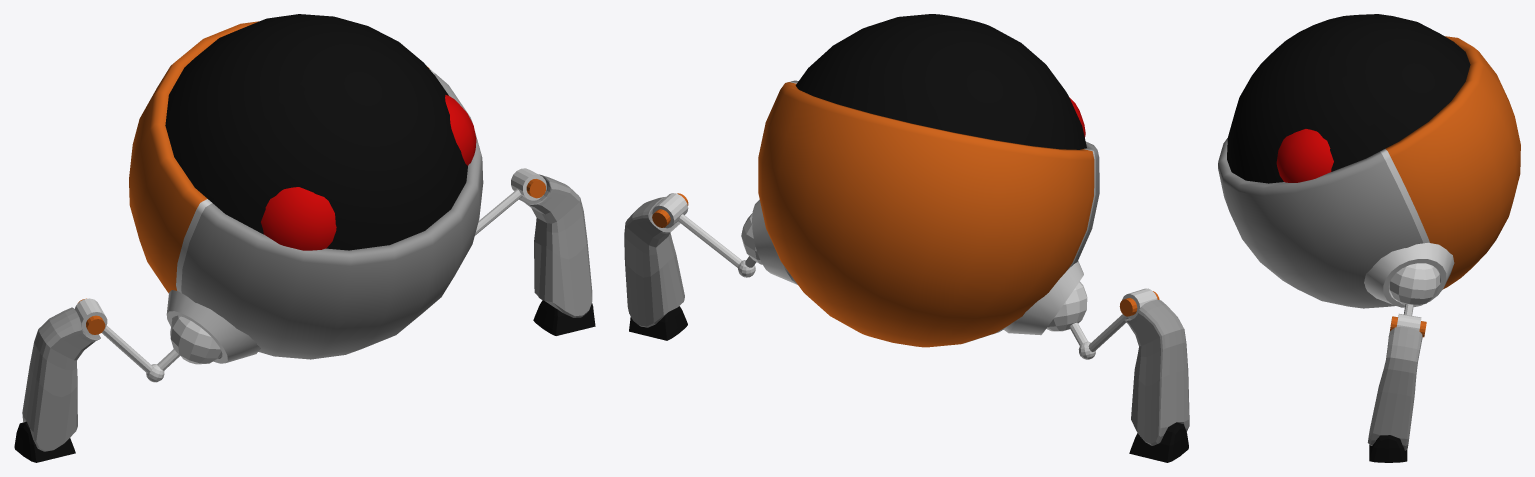
File: Enemy_Large.obj
3 renders of one model, left to right at view 1: azimuth 30°, elevation 25°; view 2: azimuth 150°, elevation 25°; view 3: azimuth 270°, elevation 25°, orthographic. The views are drawn at different scales.
Visible parts, largest first — view 1: Sphere, Cube.005; view 2: Sphere, Cube.005; view 3: Sphere, Cube.005.
Boxes of the visible parts, x1,y1,x2,y2 form: Sphere: (129,14,483,359); Cube.005: (14,168,595,462); Sphere: (758,14,1099,347); Cube.005: (624,193,1189,462); Sphere: (1218,14,1520,308); Cube.005: (1364,242,1454,462).
Bounding box in the file's own units: 1.43 × 0.8926 × 0.7785.
